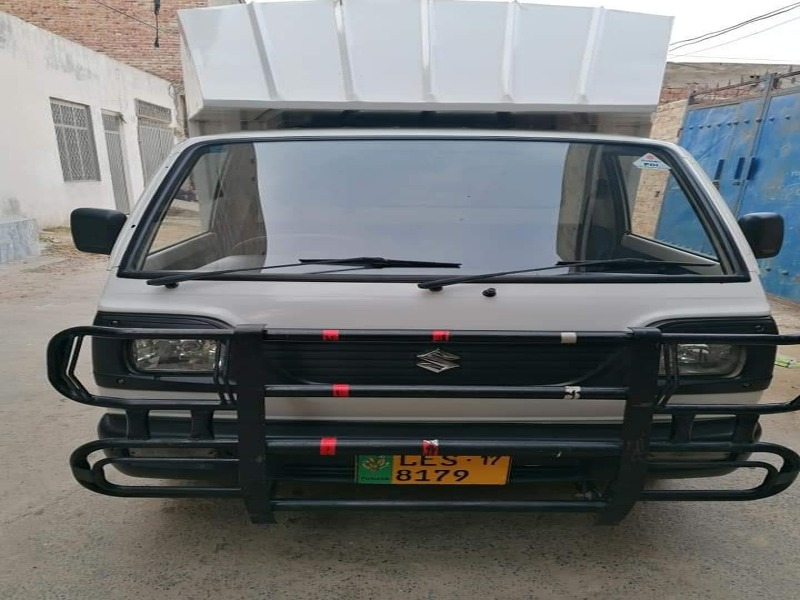License Plate: (352, 445, 520, 494)
